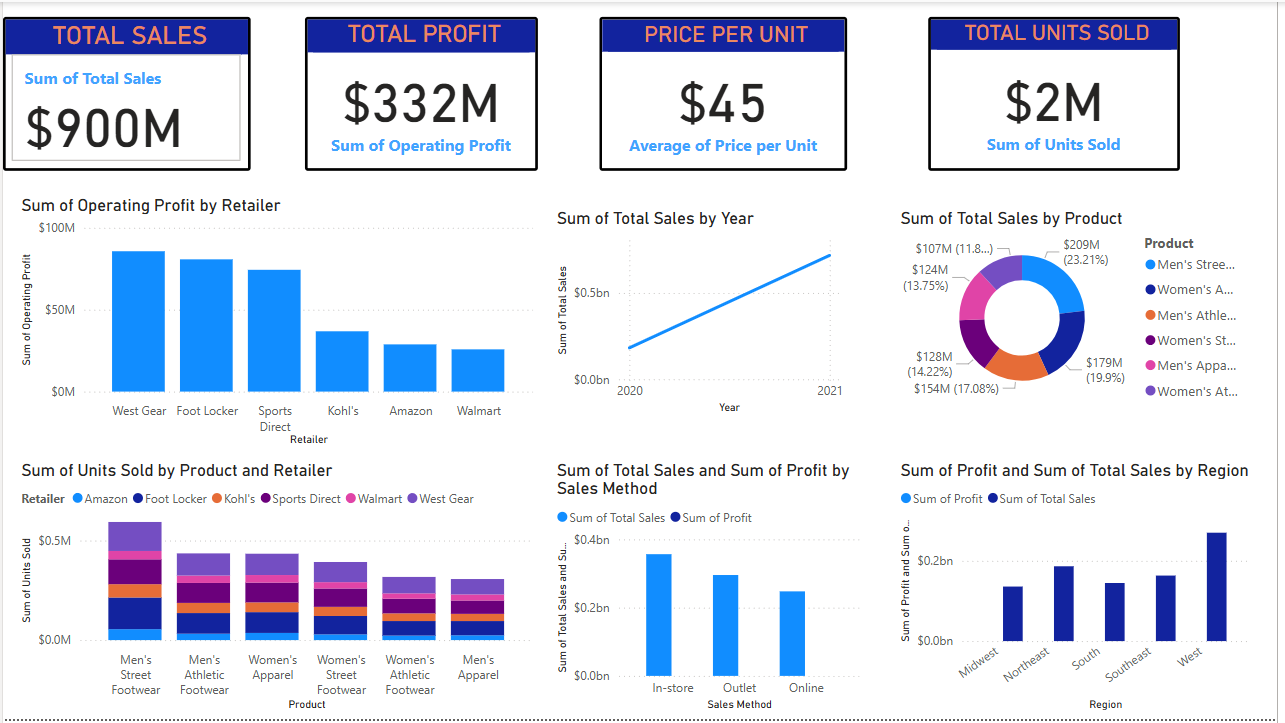

This screenshot's page, from the dashboard's own definition file:
{"tool":"powerbi","page":{"name":"Page 1","canvas":[1280,720],"ordinal":0},"visuals":[{"type":"cardVisual","title":"TOTAL SALES","fields":{"Data":["Sum(Data Sales Adidas.Total Sales)"]},"box":[0,15.1,248.9,154.6],"z":0},{"type":"card","title":"TOTAL PROFIT","fields":{"Values":["Sum(Data Sales Adidas.Operating Profit)"]},"box":[303.6,15.1,233.8,154.6],"z":1000},{"type":"card","title":"PRICE  PER UNIT","fields":{"Values":["Avg(Data Sales Adidas.Price per Unit)"]},"box":[599.7,15.1,248.9,154.6],"z":2000},{"type":"card","title":"TOTAL UNITS SOLD","fields":{"Values":["Sum(Data Sales Adidas.Units Sold)"]},"box":[929.7,15.1,252.7,154.6],"z":3000},{"type":"clusteredColumnChart","fields":{"Category":["Data Sales Adidas.Retailer"],"Y":["Sum(Data Sales Adidas.Operating Profit)"]},"box":[13.2,194.2,524.3,256.5],"z":4000},{"type":"lineChart","fields":{"Category":["Data Sales Adidas.Invoice Date.Variation.Date Hierarchy.Year","Data Sales Adidas.Invoice Date.Variation.Date Hierarchy.Quarter","Data Sales Adidas.Invoice Date.Variation.Date Hierarchy.Month","Data Sales Adidas.Invoice Date.Variation.Date Hierarchy.Day"],"Y":["Sum(Data Sales Adidas.Total Sales)"]},"box":[551.3,207.7,297.3,210.7],"z":5000},{"type":"donutChart","fields":{"Category":["Data Sales Adidas.Product"],"Y":["Sum(Data Sales Adidas.Total Sales)"]},"box":[896.4,207.1,359.8,201.1],"z":6000},{"type":"columnChart","fields":{"Category":["Data Sales Adidas.Product"],"Series":["Data Sales Adidas.Retailer"],"Y":["Sum(Data Sales Adidas.Units Sold)"]},"box":[13,460,524,256],"z":7000},{"type":"clusteredColumnChart","fields":{"Category":["Data Sales Adidas.Sales Method"],"Y":["Sum(Data Sales Adidas.Total Sales)","Sum(Data Sales Adidas.Profit)"]},"box":[552,460,314,256],"z":8000},{"type":"clusteredColumnChart","fields":{"Category":["Data Sales Adidas.Region"],"Y":["Sum(Data Sales Adidas.Profit)","Sum(Data Sales Adidas.Total Sales)"]},"box":[896,460,360,256],"z":9000}]}

Visuals, with their boxes in screenshot pixels (x1, y1, x2, y2), scaled from the page's 1280x720 canvas onto the 1285x723 screenshot:
"TOTAL SALES" cardVisual: crop(0, 15, 250, 170)
"TOTAL PROFIT" card: crop(305, 15, 539, 170)
"PRICE  PER UNIT" card: crop(602, 15, 852, 170)
"TOTAL UNITS SOLD" card: crop(933, 15, 1187, 170)
clusteredColumnChart - Data Sales Adidas.Retailer x Sum(Data Sales Adidas.Operating Profit): crop(13, 195, 540, 453)
lineChart - Data Sales Adidas.Invoice Date.Variation.Date Hierarchy.Year x Data Sales Adidas.Invoice Date.Variation.Date Hierarchy.Quarter: crop(553, 209, 852, 420)
donutChart - Data Sales Adidas.Product x Sum(Data Sales Adidas.Total Sales): crop(900, 208, 1261, 410)
columnChart - Data Sales Adidas.Product x Data Sales Adidas.Retailer: crop(13, 462, 539, 719)
clusteredColumnChart - Data Sales Adidas.Sales Method x Sum(Data Sales Adidas.Total Sales): crop(554, 462, 869, 719)
clusteredColumnChart - Data Sales Adidas.Region x Sum(Data Sales Adidas.Profit): crop(900, 462, 1261, 719)
